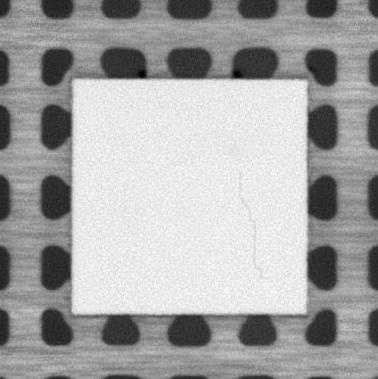DIE_CRACK: (234, 171, 266, 280)
